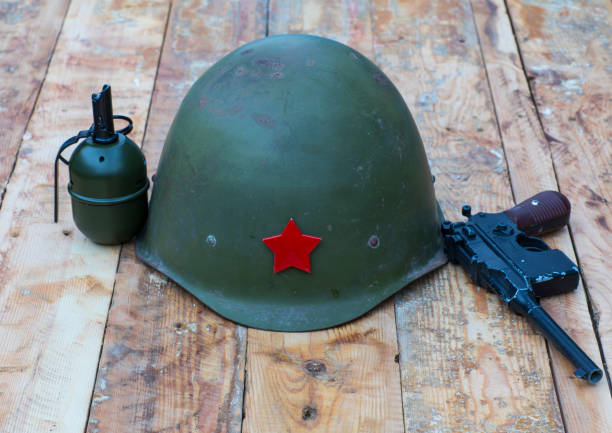e1: (49, 87, 149, 246)
